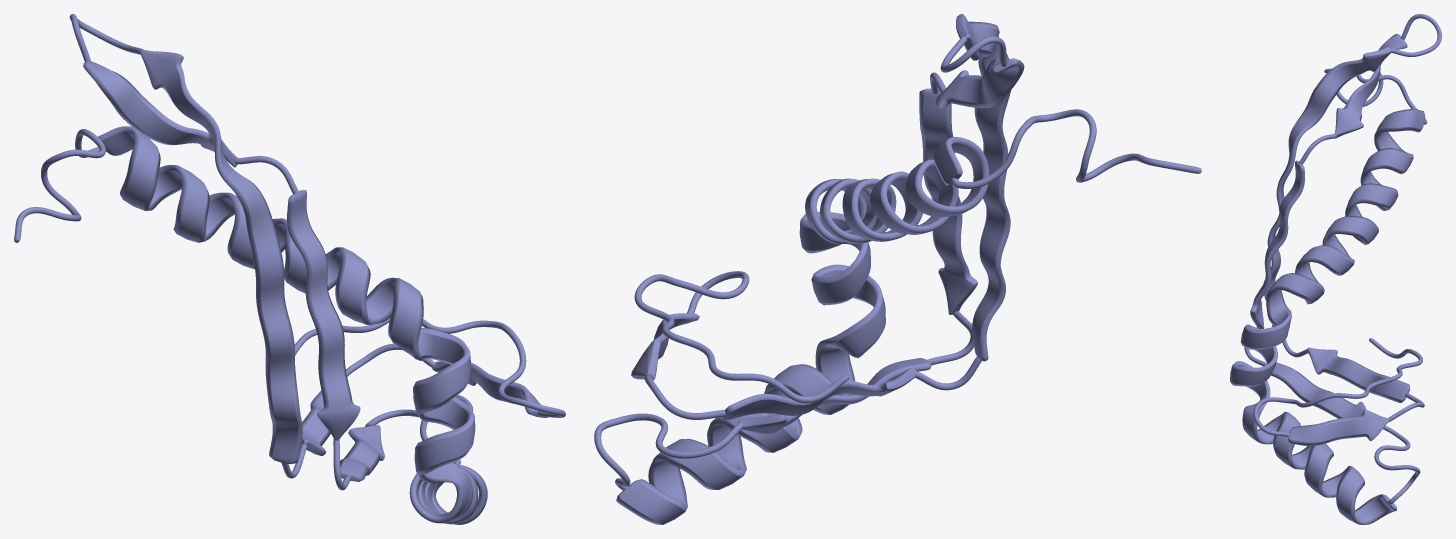
The model's file is Partial-domain.glb.
3 renders of one model, left to right at view 1: azimuth 30°, elevation 25°; view 2: azimuth 150°, elevation 25°; view 3: azimuth 270°, elevation 25°, orthographic. The views are drawn at different scales.
Parts seen in each view (by area): view 1: Partial domain.001; view 2: Partial domain.001; view 3: Partial domain.001.
Part boxes in pixels (bbox=[...]): Partial domain.001: bbox=[14, 14, 565, 524]; Partial domain.001: bbox=[594, 14, 1201, 524]; Partial domain.001: bbox=[1230, 14, 1441, 524].
Bounding box in the file's own units: 1.03 × 1.08 × 0.5269.
